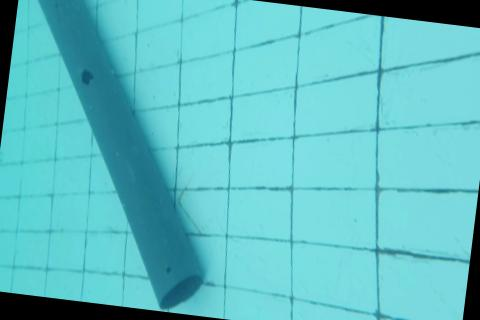kebocoran: (79, 69, 94, 86), (165, 266, 171, 273)
